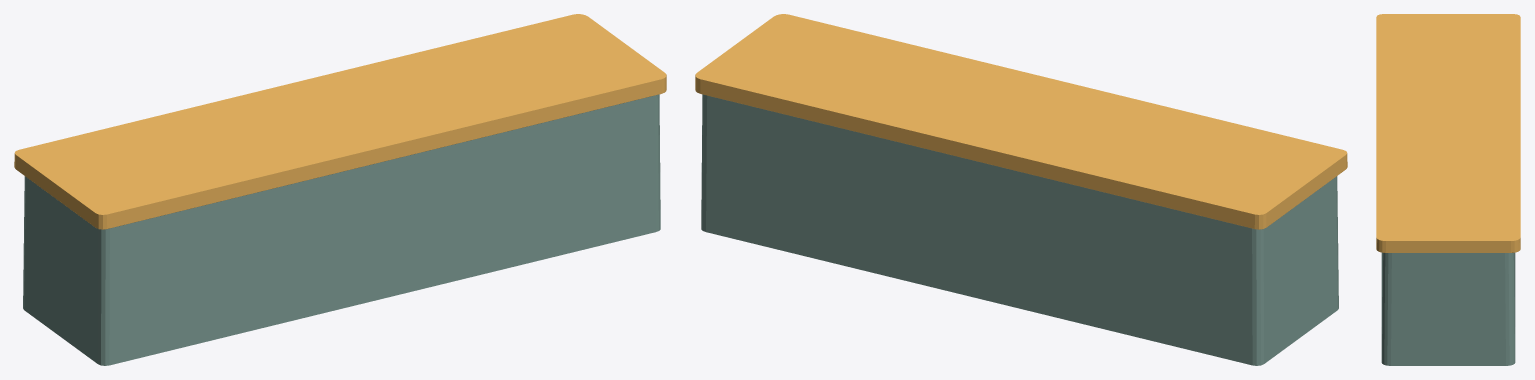
The model's file is Desk.fbx.
3 views of the same model, side by side, from view 1: azimuth 30°, elevation 25°; view 2: azimuth 150°, elevation 25°; view 3: azimuth 270°, elevation 25° (orthographic). The views are drawn at different scales.
Visible parts, largest first — view 1: Desk.001; view 2: Desk.001; view 3: Desk.001.
Part boxes in pixels (<box>): Desk.001: <box>14,14,666,365</box>; Desk.001: <box>695,14,1347,365</box>; Desk.001: <box>1376,14,1520,365</box>.
Bounding box in the file's own units: 5962 × 1542 × 1600.
1 material, 1 textured.
